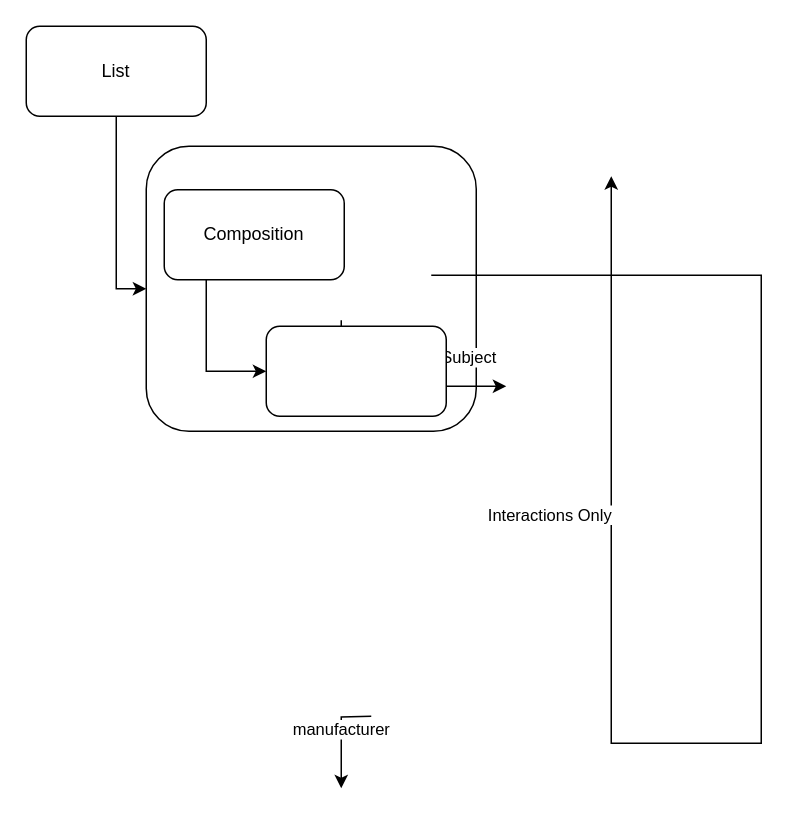
The diagram is 800 pixels wide and 827 high, and some of its shapes have lost their labels. The box of each missing label's shape, as (x1, y1, x2, y2) in pixels:
Binary: (265, 325, 446, 416)
Bundle: (145, 145, 476, 431)
